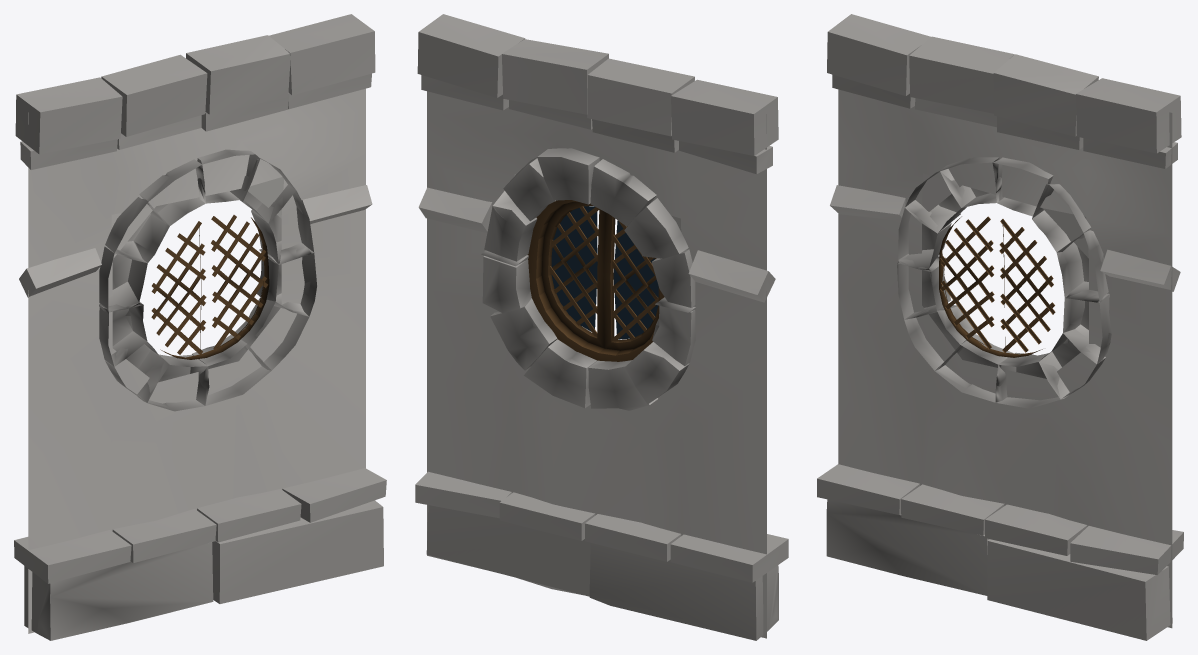
Rendered from wall_window_E_LOW.FBX.
3 views of the same model, side by side, from view 1: azimuth 30°, elevation 25°; view 2: azimuth 150°, elevation 25°; view 3: azimuth 330°, elevation 25° (orthographic).
Parts seen in each view (by area): view 1: wall_window_E_LOW; view 2: wall_window_E_LOW; view 3: wall_window_E_LOW.
Part boxes in pixels (x1,y1,x2,y2): wall_window_E_LOW: (14,14,386,640); wall_window_E_LOW: (415,14,788,640); wall_window_E_LOW: (817,14,1183,640).
Bounding box in the file's own units: 4.06 × 6.02 × 0.836.
